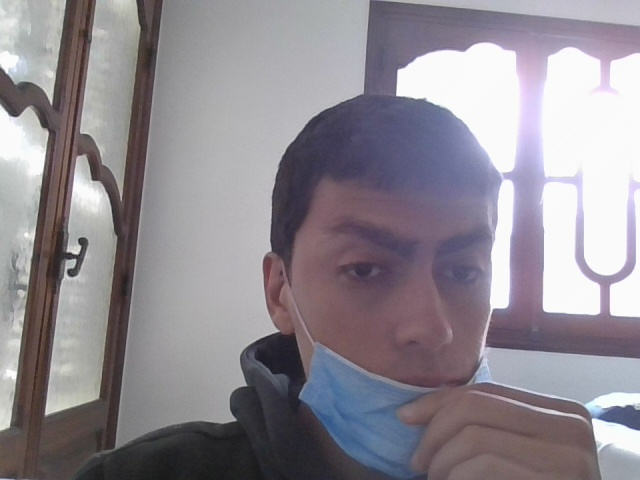mask_weared_incorrect: (290, 104, 515, 474)
